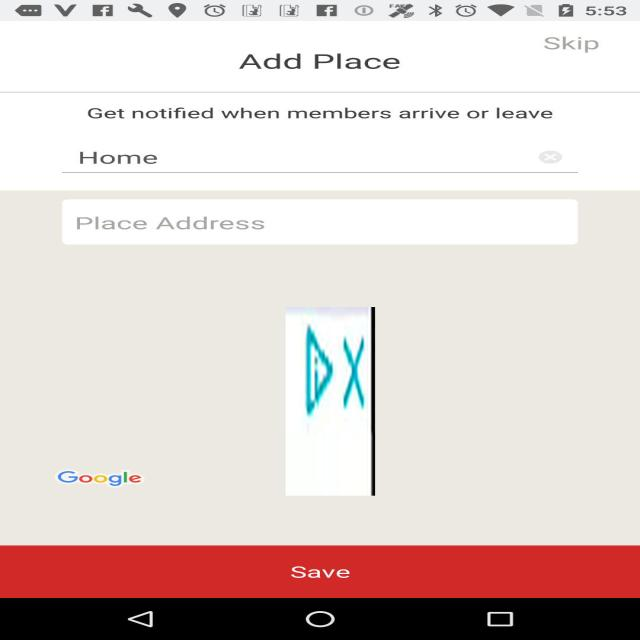sneaking: (286, 307, 375, 496)
